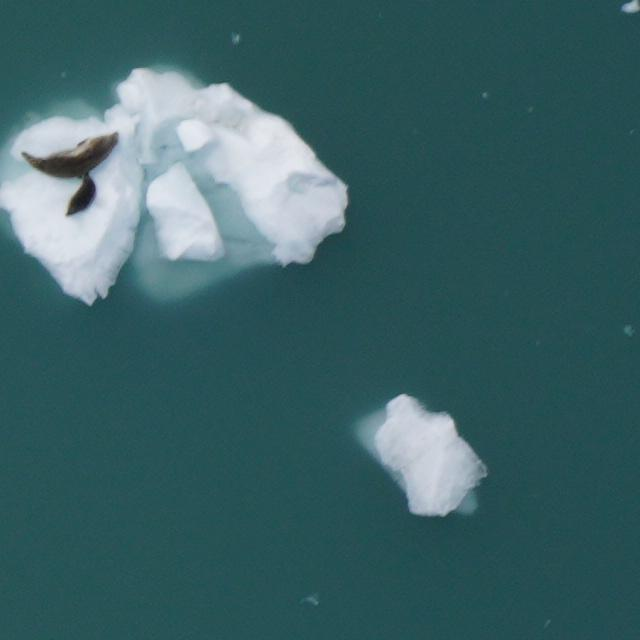seal: (20, 128, 127, 189), (62, 168, 104, 224)
